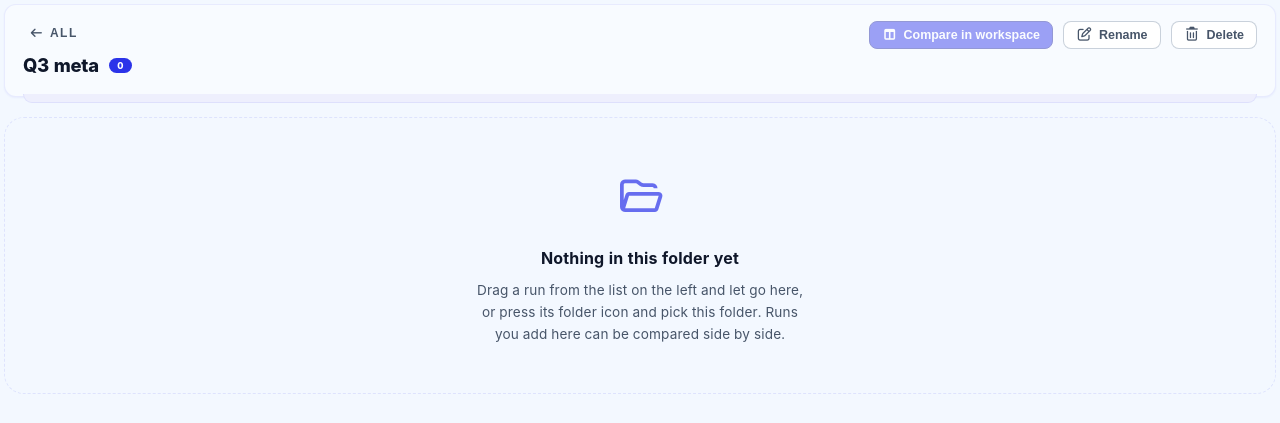
Scenario: ExperimentFolderComponent › commits the rename on Enter
Click the button with class "folder-form-action" showing "Rename" at (1112, 35), box [1063,21,1160,49]
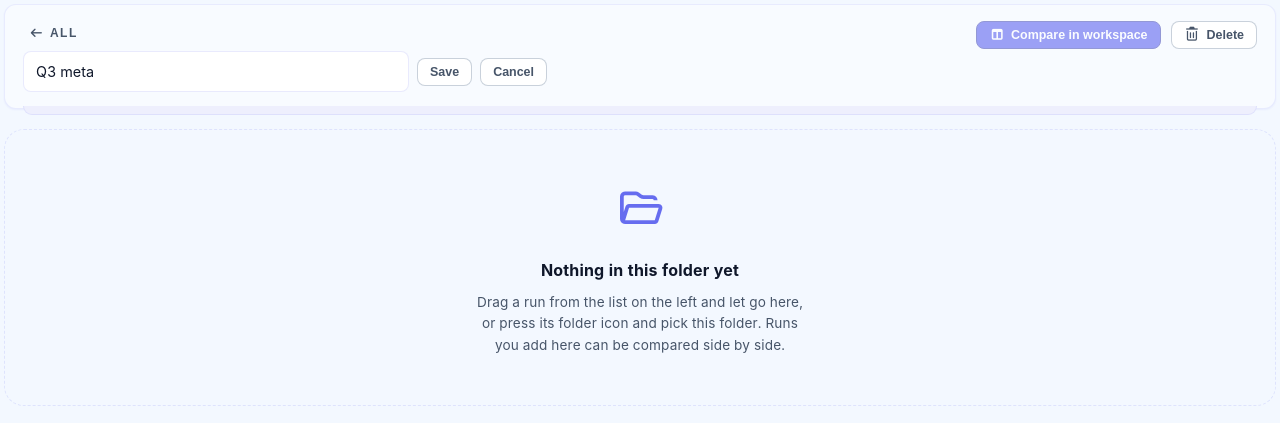
Replace the text in the field with class "folder-rename-input" with "PCA on bids" at (216, 72), box [23,51,409,92]
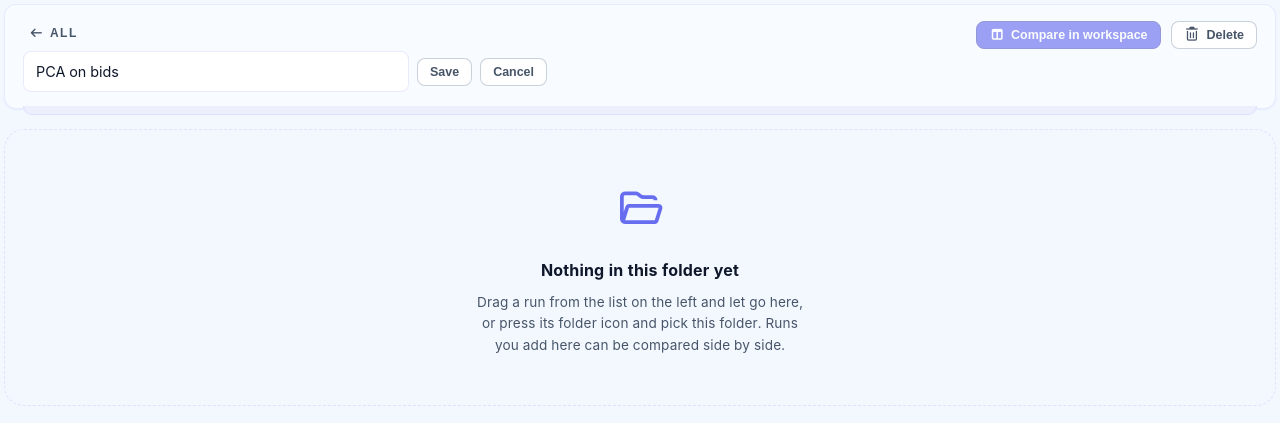
Press Enter in the field with class "folder-rename-input", box [23,51,409,92]
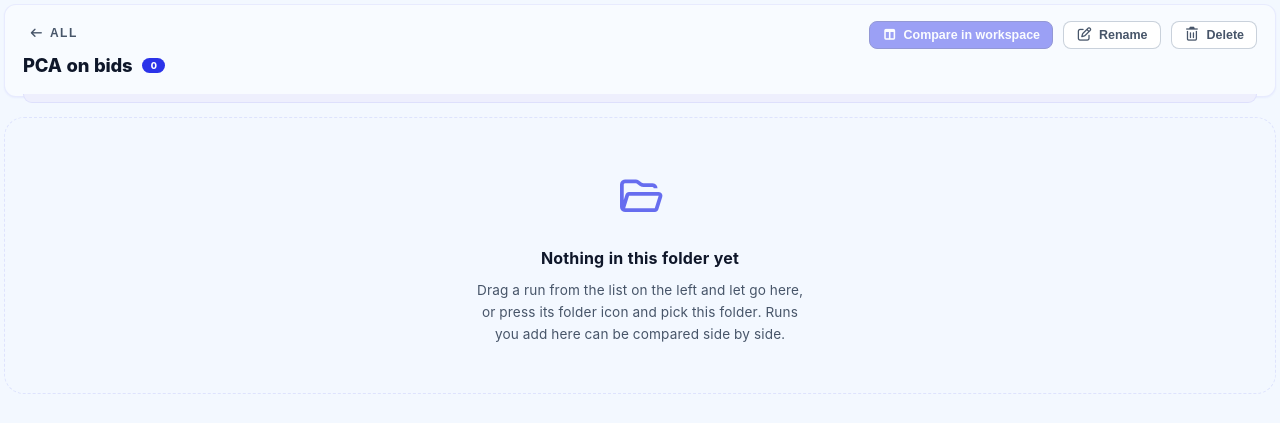
Expected: the heading "PCA on bids" is shown, [23,51,132,80]
Expected: the field with class "folder-rename-input" is gone
